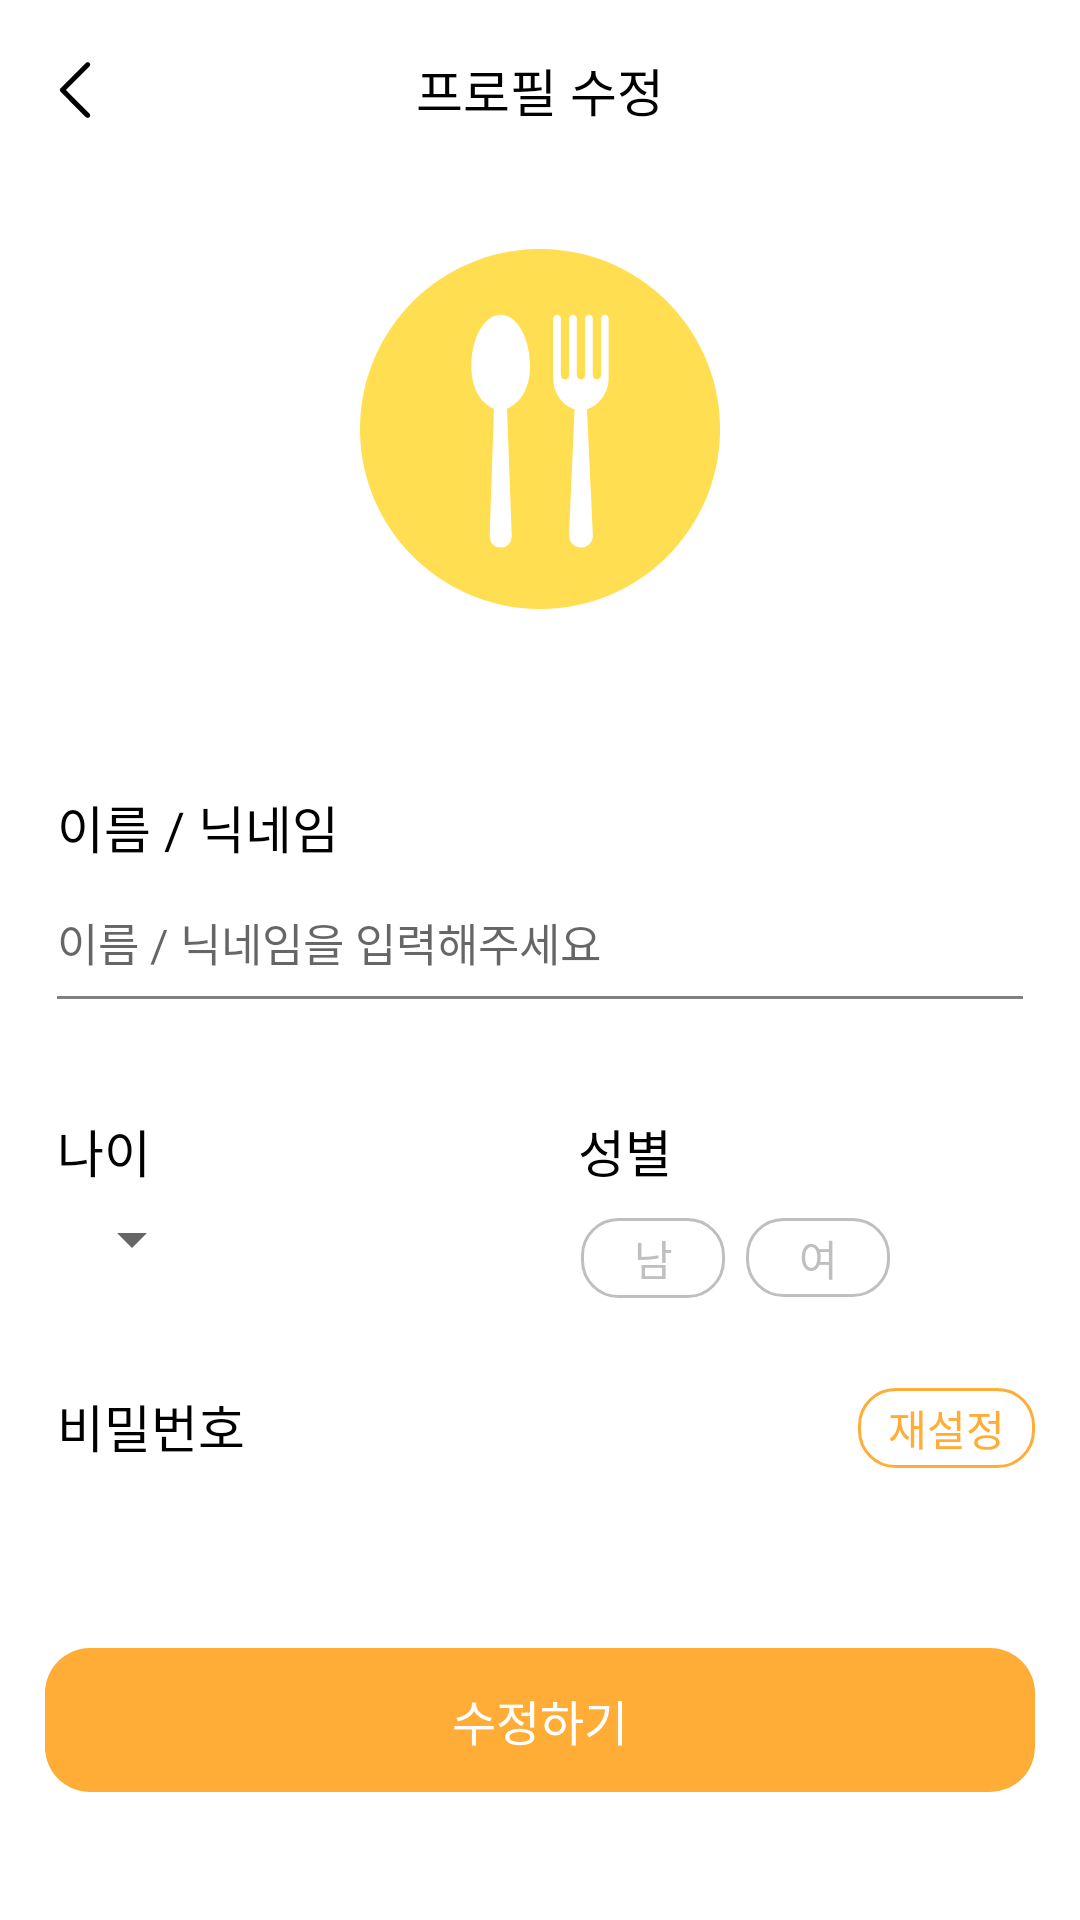

Screen size 1080 × 1920. Icon name, then its center in pixels as (x=x, y=y):
arrow back: (x=75, y=90)
